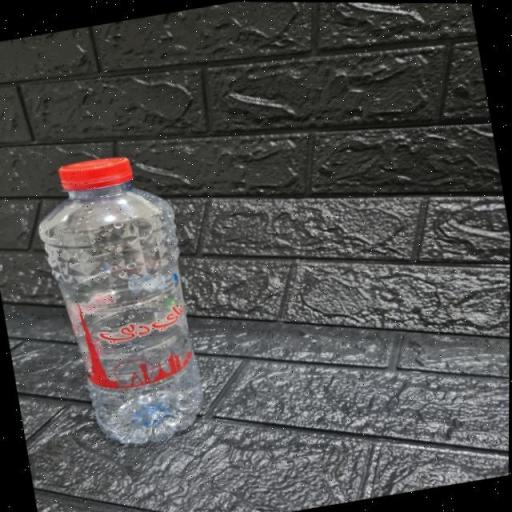plastic: (25, 145, 214, 457)
